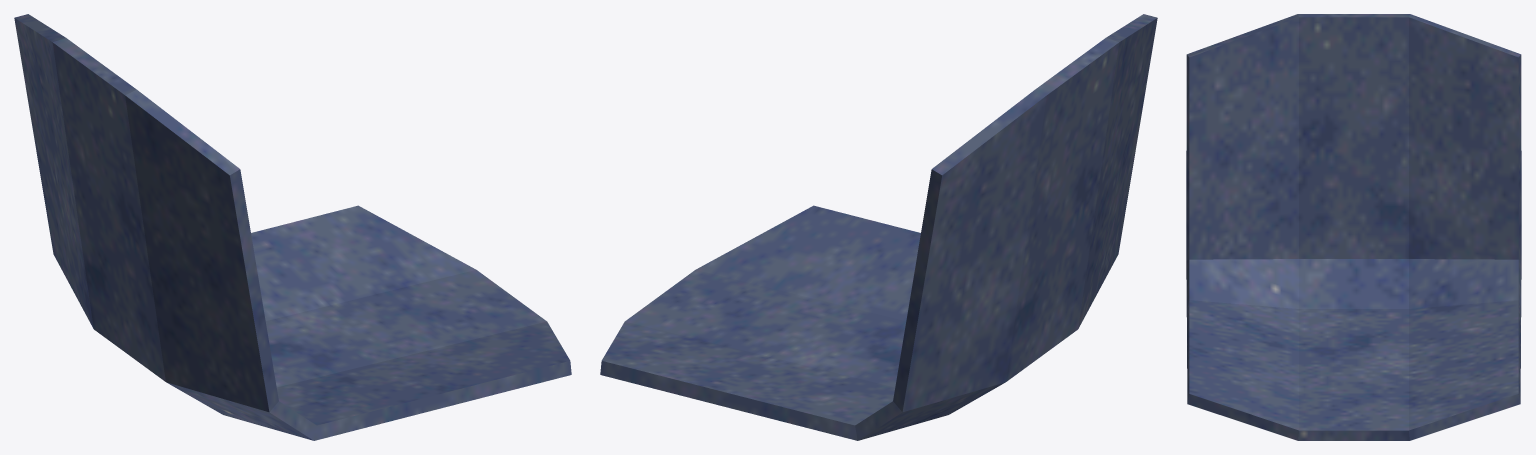
File: Urban_BusstopSingleSeatLoose_Model.fbx
3 renders of one model, left to right at view 1: azimuth 30°, elevation 25°; view 2: azimuth 150°, elevation 25°; view 3: azimuth 270°, elevation 25°, orthographic. The views are drawn at different scales.
Parts seen in each view (by area): view 1: Urban_BusstopSingleSeatLoose_Mesh; view 2: Urban_BusstopSingleSeatLoose_Mesh; view 3: Urban_BusstopSingleSeatLoose_Mesh.
Boxes of the visible parts, x1,y1,x2,y2 form: Urban_BusstopSingleSeatLoose_Mesh: (14,14,571,440); Urban_BusstopSingleSeatLoose_Mesh: (600,14,1157,440); Urban_BusstopSingleSeatLoose_Mesh: (1186,14,1521,440).
Bounding box in the file's own units: 0.692 × 0.54 × 0.6118.
